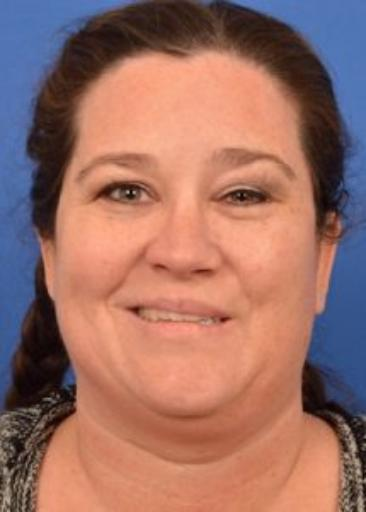left_eye: (215, 186, 272, 211)
left_lip_corner: (225, 311, 238, 327)
right_eye: (102, 180, 161, 206)
right_lip_corner: (120, 305, 137, 316)
